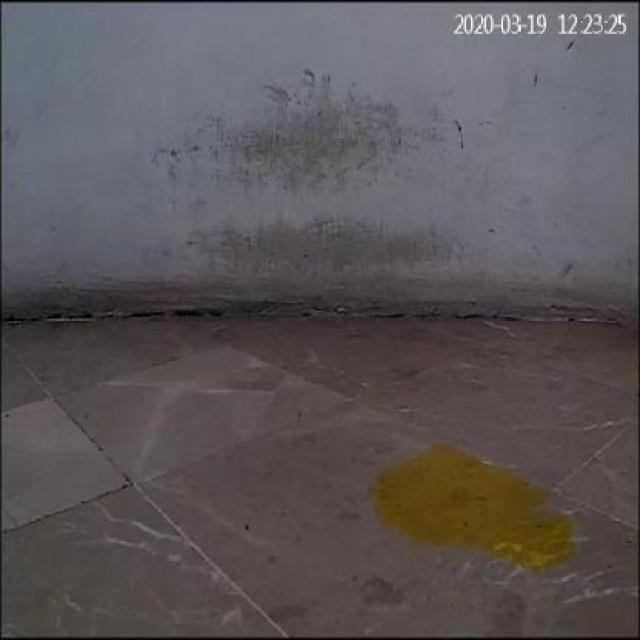spill: (366, 451, 574, 578)
